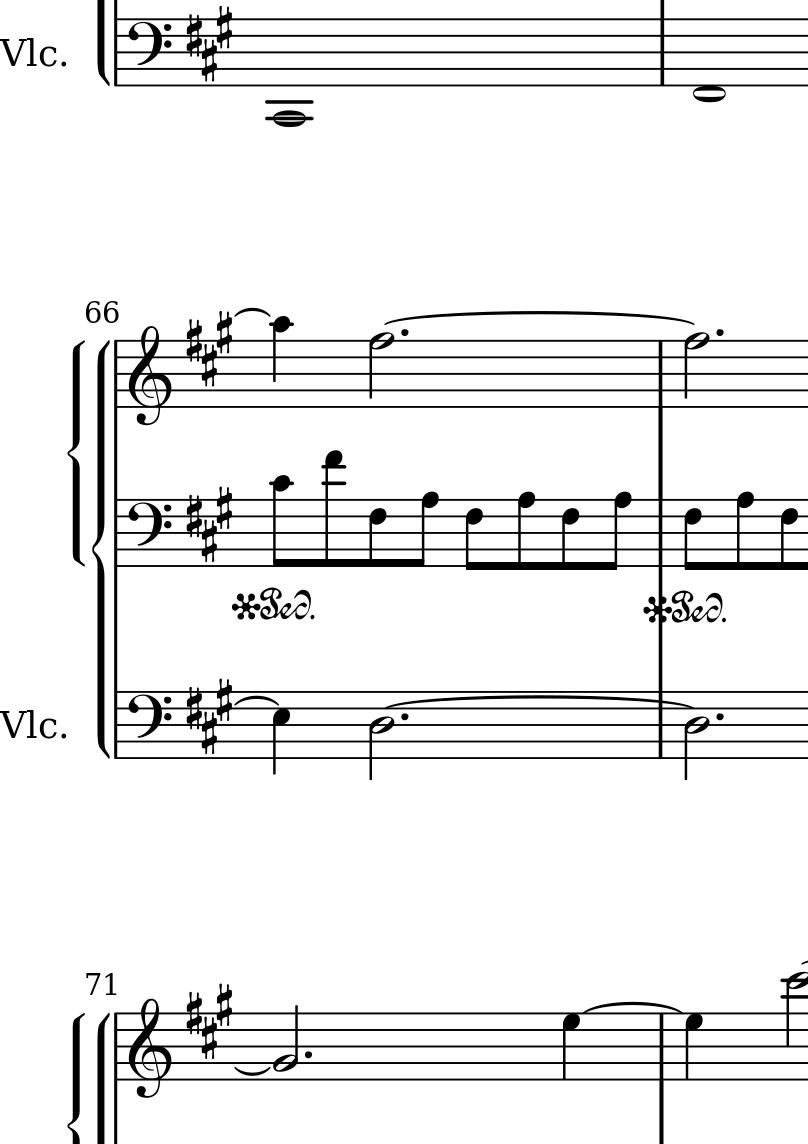1: (104, 970, 119, 998)
16_13: (323, 447, 347, 572)
1_-1: (692, 14, 727, 107)
1_-4: (264, 16, 314, 129)
2_2: (272, 1003, 301, 1082)
2_4: (368, 690, 395, 782), (683, 691, 710, 781)
2_8: (367, 330, 396, 410), (682, 330, 711, 410)
4_10: (269, 316, 294, 409)
4_5: (271, 689, 293, 779)
4_7: (683, 1011, 706, 1083), (561, 1012, 583, 1082)
6: (102, 297, 121, 324), (85, 298, 102, 325)
7: (85, 969, 102, 999)
8_10: (270, 474, 295, 570)
8_6: (682, 497, 704, 572), (560, 498, 582, 572), (778, 498, 800, 572), (464, 497, 485, 573), (368, 498, 388, 569)
8_8: (601, 490, 634, 571), (409, 490, 441, 569), (515, 490, 538, 572), (735, 489, 757, 573)
A_S: (183, 307, 235, 391), (186, 481, 235, 563), (183, 674, 232, 756), (185, 980, 233, 1060), (186, 4, 232, 87)
Brace: (86, 340, 110, 763), (66, 339, 87, 567)
Fclef: (125, 689, 173, 761), (126, 16, 173, 89), (127, 497, 174, 568)
Gclef: (128, 996, 173, 1100), (129, 324, 172, 427)
Single_barline: (653, 1014, 674, 1080), (652, 499, 671, 566), (652, 693, 671, 758), (654, 19, 672, 86), (653, 341, 671, 408), (110, 341, 126, 410), (110, 692, 126, 760), (110, 1014, 126, 1079), (110, 501, 126, 566), (111, 20, 126, 87)
Slur: (385, 692, 694, 711), (379, 311, 694, 326), (583, 1001, 686, 1015), (232, 689, 282, 712), (235, 694, 283, 707), (234, 307, 271, 319), (232, 1067, 269, 1077)
Vlc: (1, 32, 57, 75), (1, 705, 57, 747)
dot: (713, 709, 727, 724), (302, 1047, 315, 1062), (713, 325, 726, 340), (399, 326, 411, 340), (399, 711, 410, 724)
